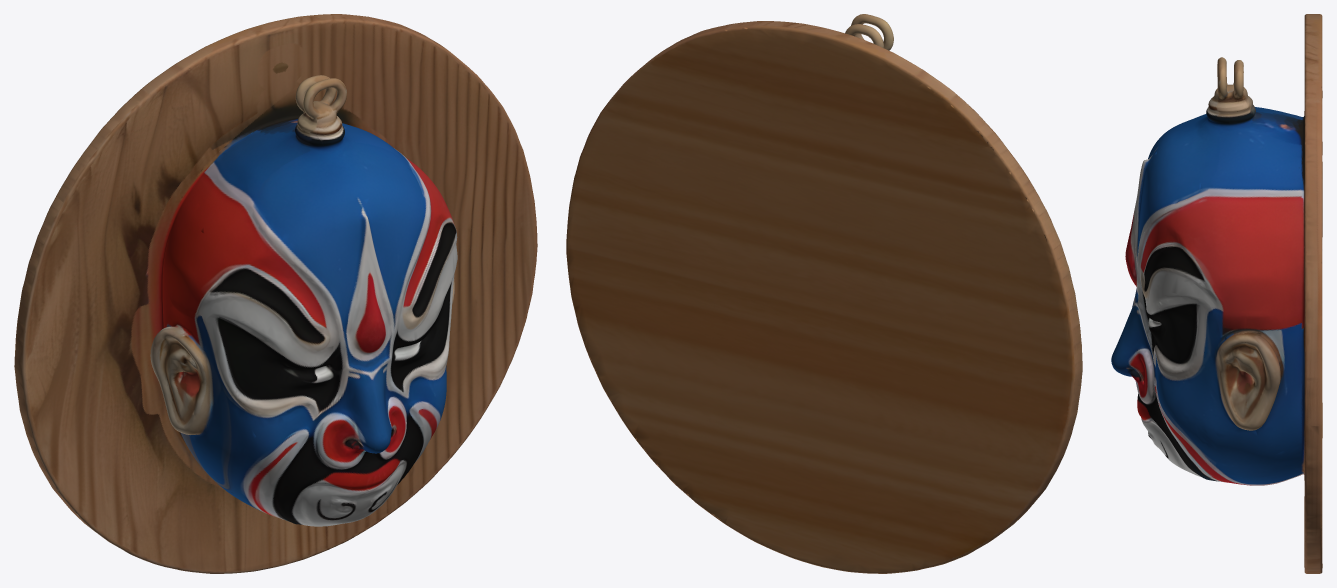
File: romantex_68.glb
The picture shows the model from 3 angles, left to right: view 1: azimuth 30°, elevation 25°; view 2: azimuth 150°, elevation 25°; view 3: azimuth 270°, elevation 25°; orthographic projection. The views are drawn at different scales.
Parts seen in each view (by area): view 1: texture_v130_hdr_21w_pbr_dino_11w.001; view 2: texture_v130_hdr_21w_pbr_dino_11w.001; view 3: texture_v130_hdr_21w_pbr_dino_11w.001.
Boxes of the visible parts, box(x1,y1,x2,y2) form: texture_v130_hdr_21w_pbr_dino_11w.001: box(14, 14, 537, 573); texture_v130_hdr_21w_pbr_dino_11w.001: box(566, 14, 1082, 573); texture_v130_hdr_21w_pbr_dino_11w.001: box(1111, 14, 1322, 573).
Bounding box in the file's own units: 2 × 2 × 0.7565.
1 material, 1 textured.
